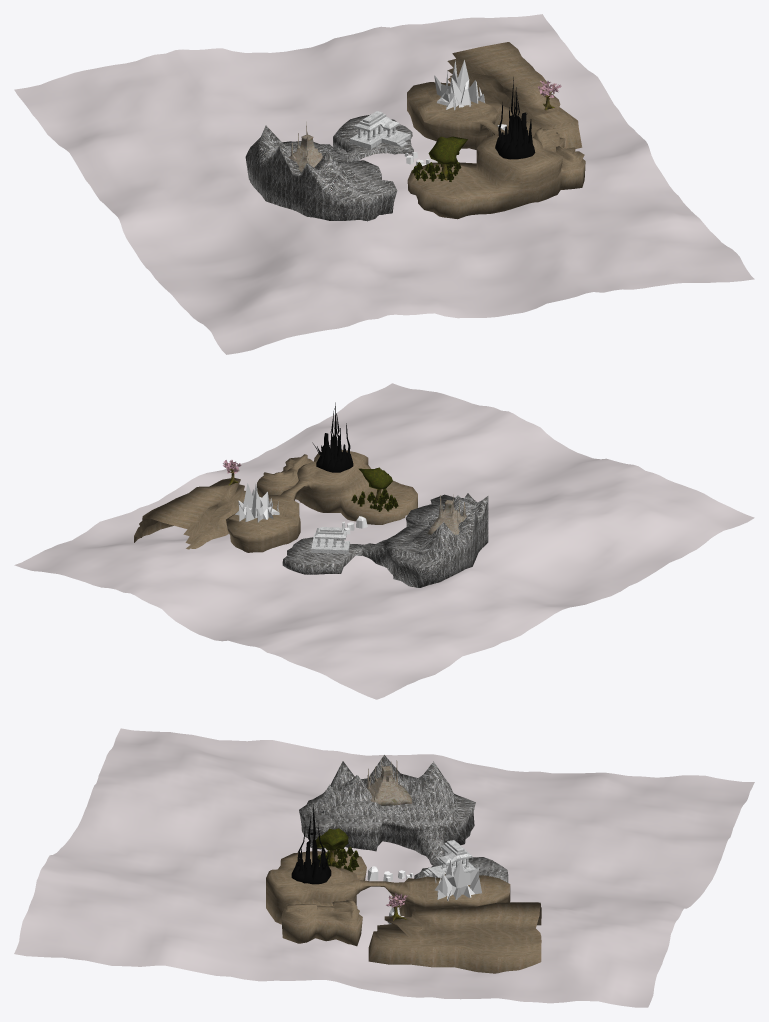
The model's file is LuisMap.glb.
3 renders of one model, top to bottom at view 1: azimuth 30°, elevation 25°; view 2: azimuth 150°, elevation 25°; view 3: azimuth 270°, elevation 25°, orthographic. The views are drawn at different scales.
Visible parts, largest first — view 1: mer2.001, bloc_centre, bloc_fond, bloc_avant, chateau_noir, temple_colonne, pics_glace, arbre_big, temple_fond, sapin.015; view 2: mer2.001, bloc_fond, bloc_centre, bloc_avant, chateau_noir, pics_glace, temple_colonne, temple_fond, sapin.015, arbre_big; view 3: mer2.001, bloc_fond, bloc_avant, bloc_centre, chateau_noir, temple_fond, pics_glace, temple_colonne, arbre_big, sapin.015.
Part boxes in pixels (left/top/right/bottom): mer2.001: left=14, top=14, right=754, bottom=354; bloc_centre: left=407, top=82, right=585, bottom=219; bloc_fond: left=245, top=114, right=413, bottom=221; bloc_avant: left=447, top=42, right=582, bottom=148; chateau_noir: left=495, top=77, right=535, bottom=159; temple_colonne: left=350, top=111, right=410, bottom=149; pics_glace: left=434, top=60, right=484, bottom=110; arbre_big: left=428, top=136, right=467, bottom=180; temple_fond: left=289, top=121, right=322, bottom=172; sapin.015: left=412, top=158, right=461, bottom=181; mer2.001: left=14, top=383, right=754, bottom=699; bloc_fond: left=282, top=493, right=488, bottom=587; bloc_centre: left=226, top=449, right=417, bottom=552; bloc_avant: left=134, top=478, right=245, bottom=549; chateau_noir: left=312, top=402, right=353, bottom=472; pics_glace: left=235, top=483, right=279, bottom=522; temple_colonne: left=311, top=527, right=349, bottom=554; temple_fond: left=427, top=494, right=466, bottom=534; sapin.015: left=351, top=488, right=398, bottom=511; arbre_big: left=358, top=467, right=392, bottom=501; mer2.001: left=14, top=728, right=754, bottom=1007; bloc_fond: left=299, top=755, right=508, bottom=882; bloc_avant: left=368, top=902, right=541, bottom=973; bloc_centre: left=266, top=850, right=510, bottom=946; chateau_noir: left=291, top=804, right=331, bottom=884; temple_fond: left=366, top=760, right=412, bottom=805; pics_glace: left=434, top=857, right=482, bottom=900; temple_colonne: left=423, top=840, right=475, bottom=878; arbre_big: left=315, top=828, right=348, bottom=866; sapin.015: left=317, top=847, right=359, bottom=871.
Bounding box in the file's own units: 77.65 × 15.85 × 87.05.
13 materials, 8 textured.
